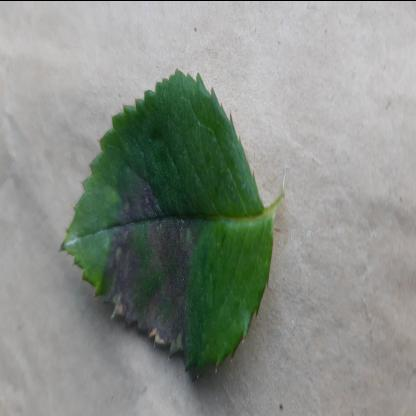downy-mildew: (61, 71, 273, 390)
